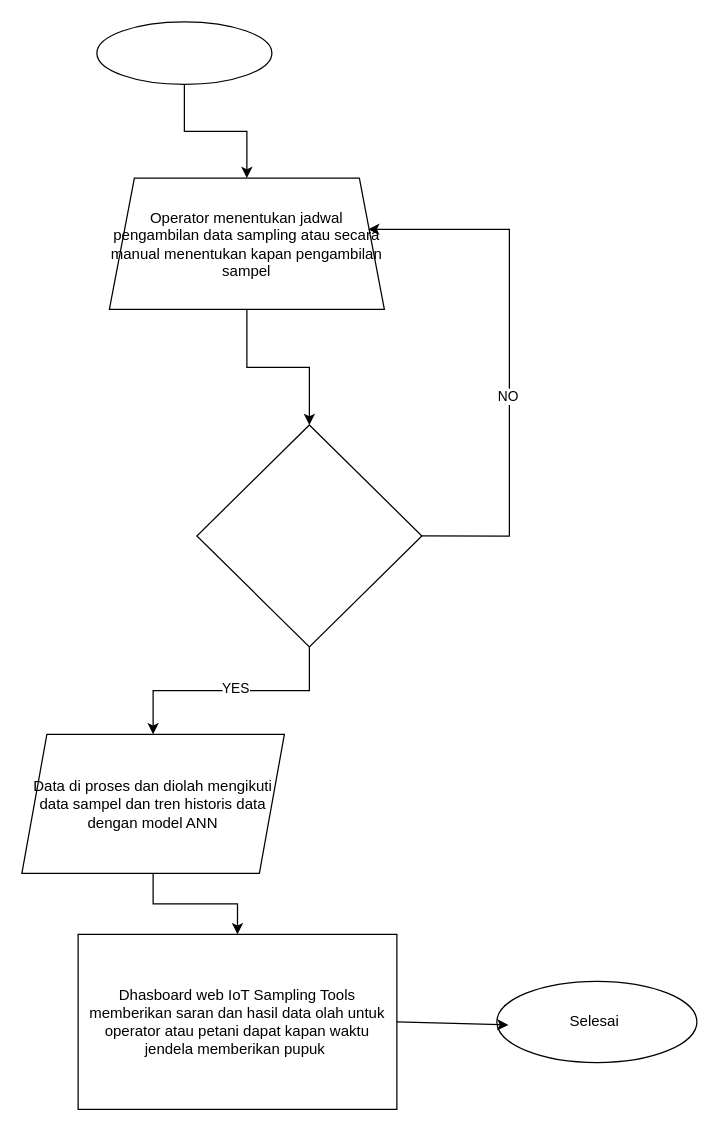
This 719x1131 diagram has some shape labels left out. Each missing label, with the box of its shape:
Data sampel terkirim dan tersimpan pada database: (196, 424, 422, 647)
Start: (96, 21, 272, 84)
